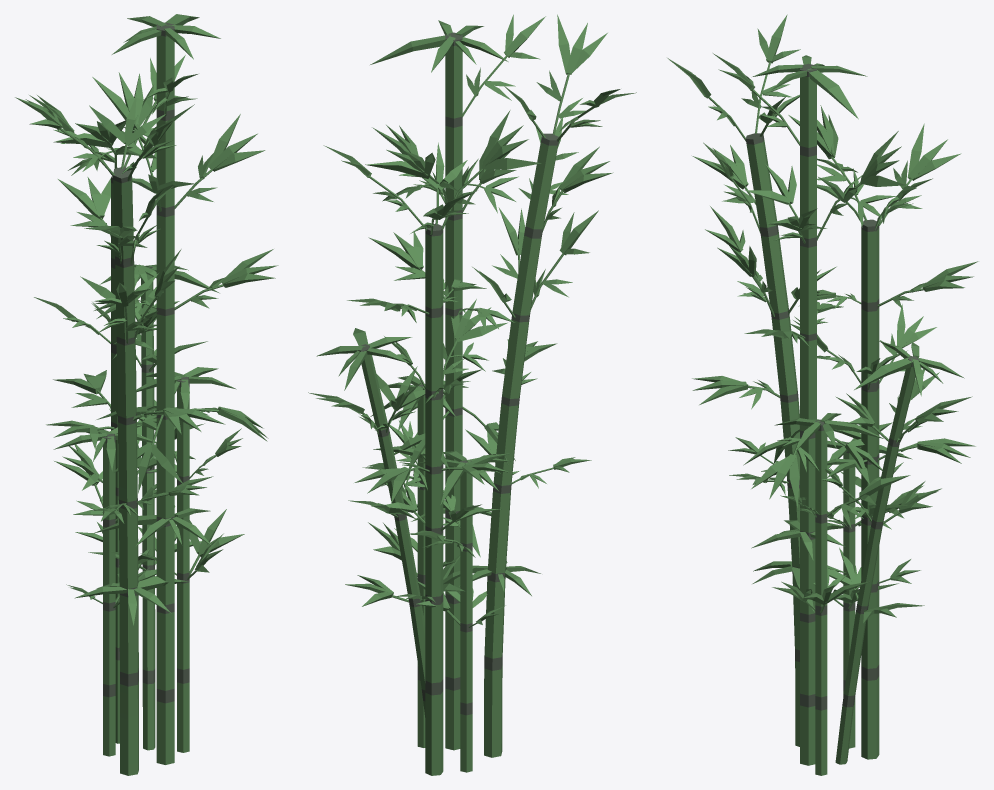
3 renders of one model, left to right at view 1: azimuth 30°, elevation 25°; view 2: azimuth 150°, elevation 25°; view 3: azimuth 270°, elevation 25°, orthographic. The views are drawn at different scales.
Parts seen in each view (by area): view 1: bamboo17; view 2: bamboo17; view 3: bamboo17.
Part boxes in pixels (x1,y1,x2,y2): bamboo17: [15, 14, 278, 775]; bamboo17: [308, 14, 636, 775]; bamboo17: [667, 14, 978, 775].
Bounding box in the file's own units: 133 × 357 × 146.
